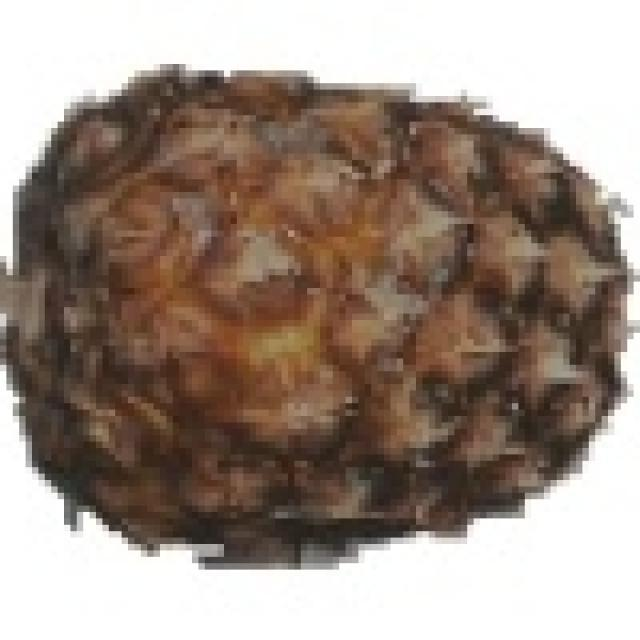pineapple: (26, 58, 634, 550)
